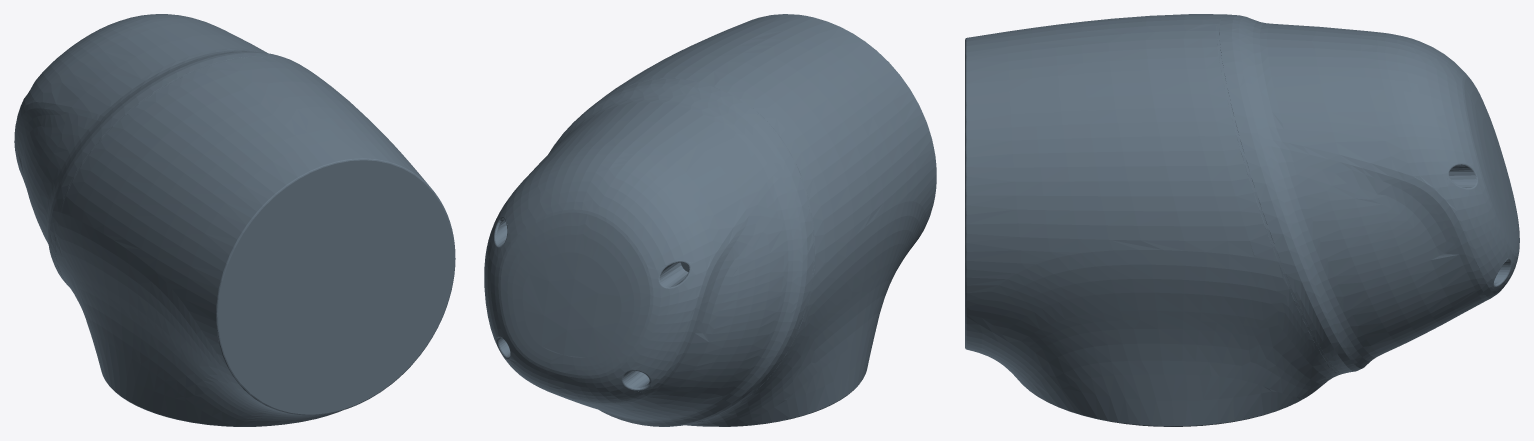
The picture shows the model from 3 angles, left to right: view 1: azimuth 30°, elevation 25°; view 2: azimuth 150°, elevation 25°; view 3: azimuth 270°, elevation 25°; orthographic projection. The views are drawn at different scales.
Visible parts, largest first — view 1: A0912_4_2; view 2: A0912_4_2; view 3: A0912_4_2.
Part boxes in pixels (x1,y1,x2,y2): A0912_4_2: (14,14,455,426); A0912_4_2: (484,14,936,426); A0912_4_2: (965,14,1519,426).
Size of the model in its own units: 101 by 155 by 101.
